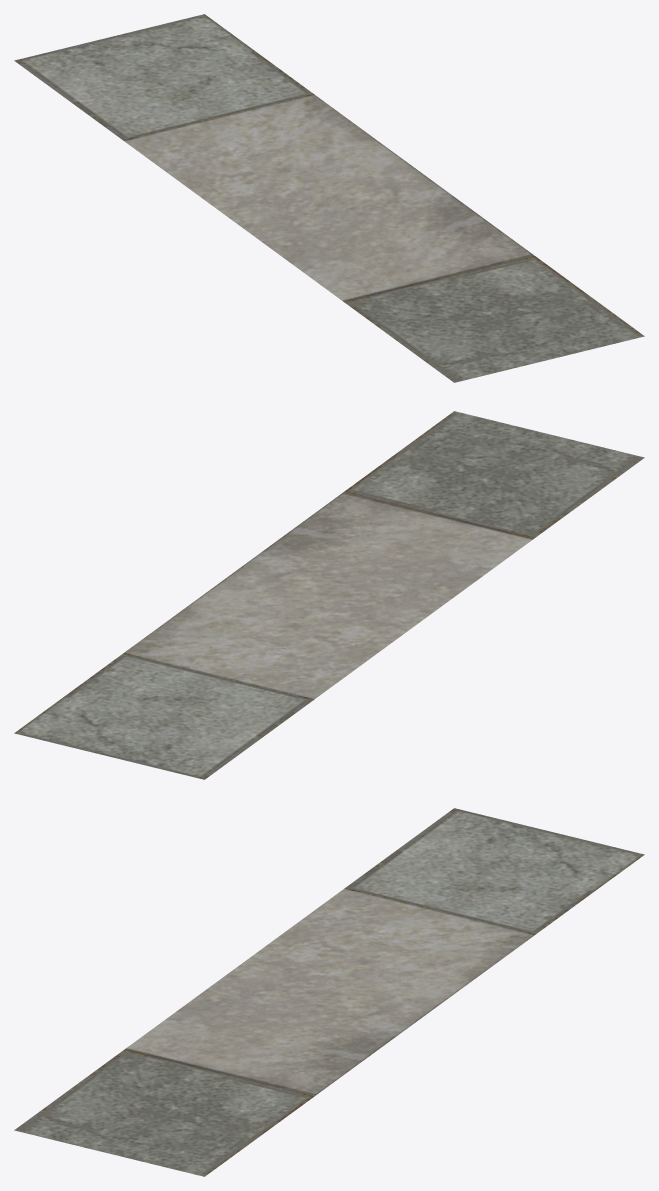
The model's file is floor_mix_2x1_b_R.fbx.
3 views of the same model, one above another, from view 1: azimuth 30°, elevation 25°; view 2: azimuth 150°, elevation 25°; view 3: azimuth 330°, elevation 25° (orthographic).
Parts seen in each view (by area): view 1: floor_mix_2x1_b_R; view 2: floor_mix_2x1_b_R; view 3: floor_mix_2x1_b_R.
Part boxes in pixels (x1,y1,x2,y2): floor_mix_2x1_b_R: (14, 14, 644, 382); floor_mix_2x1_b_R: (14, 411, 644, 779); floor_mix_2x1_b_R: (14, 808, 644, 1176).
Size of the model in its own units: 50 by 2.88e-20 by 200.
